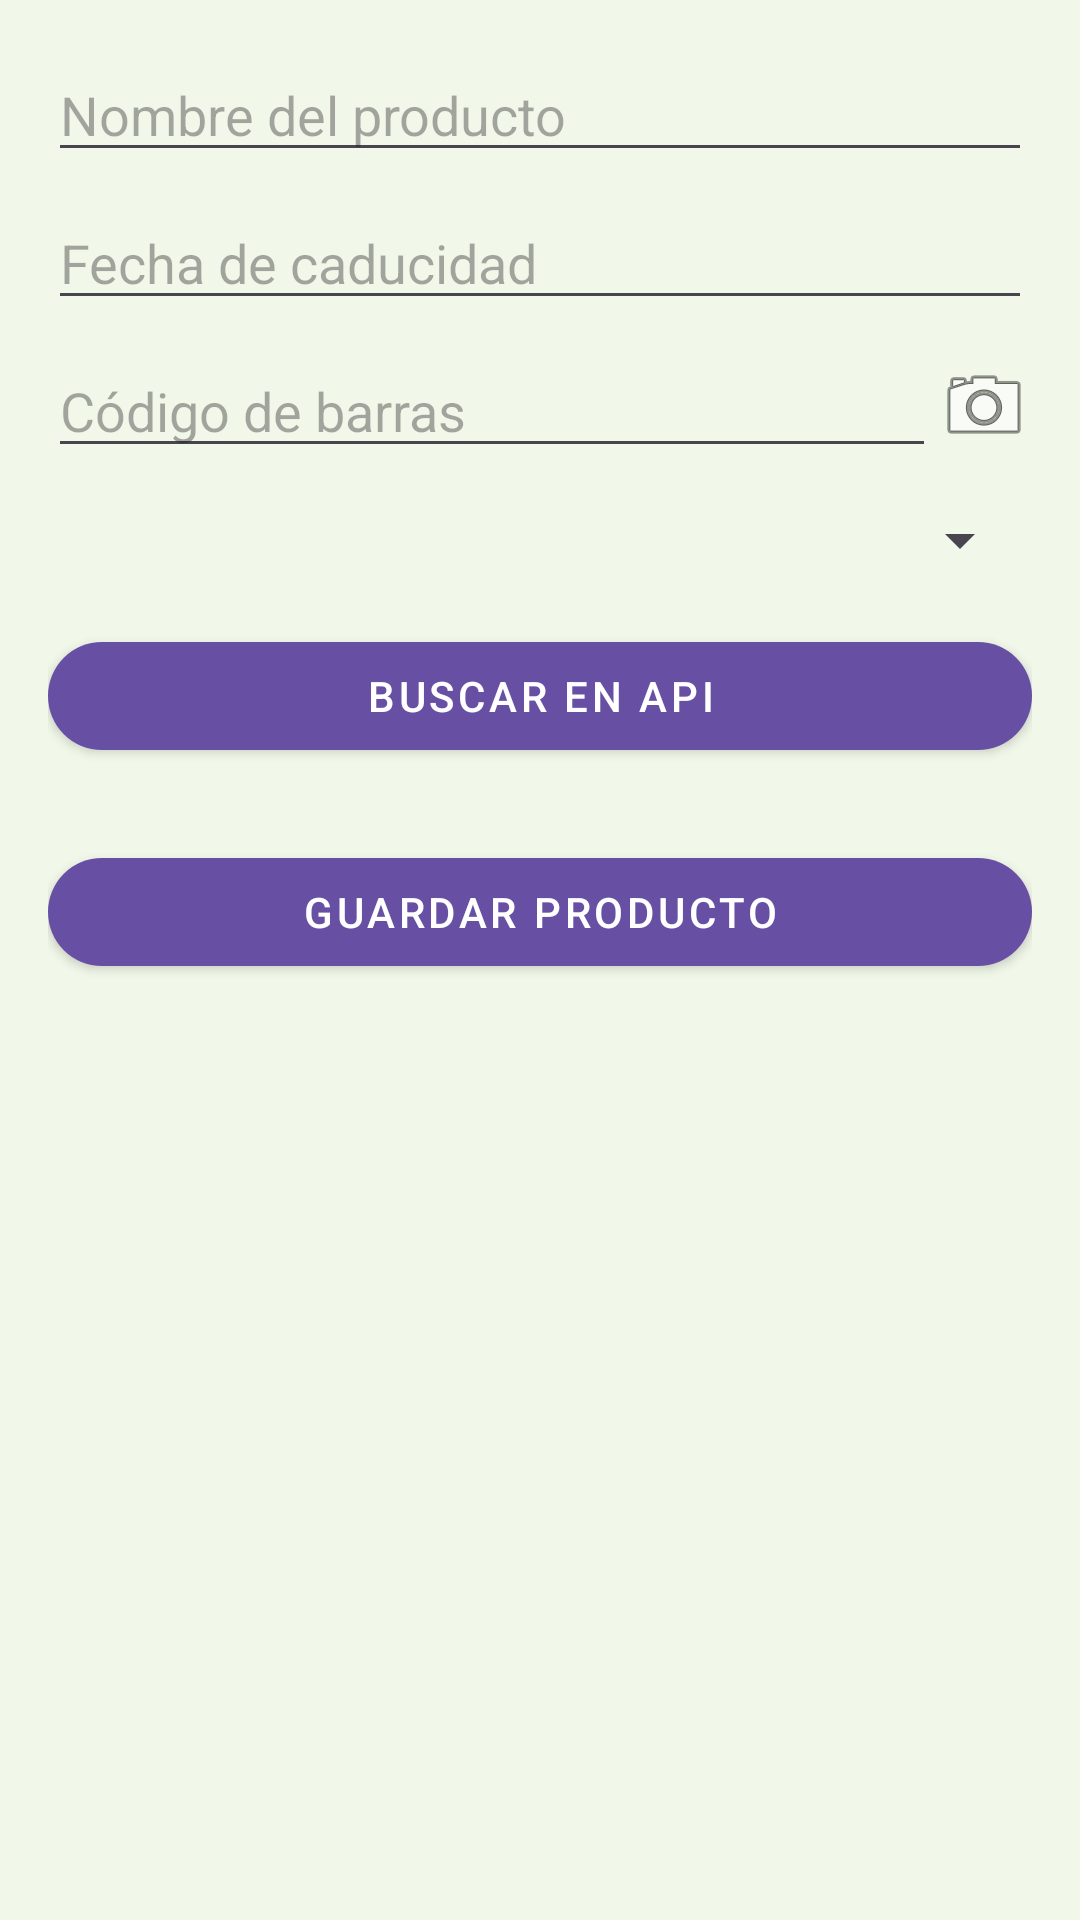

Screen size 1080 x 1920. Icon name, then its center in pixels as (x=x, y=y):
Escanear código: (x=984, y=404)
